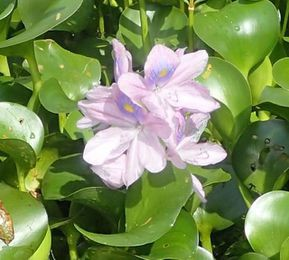water_hyacinth: (0, 1, 288, 259)
